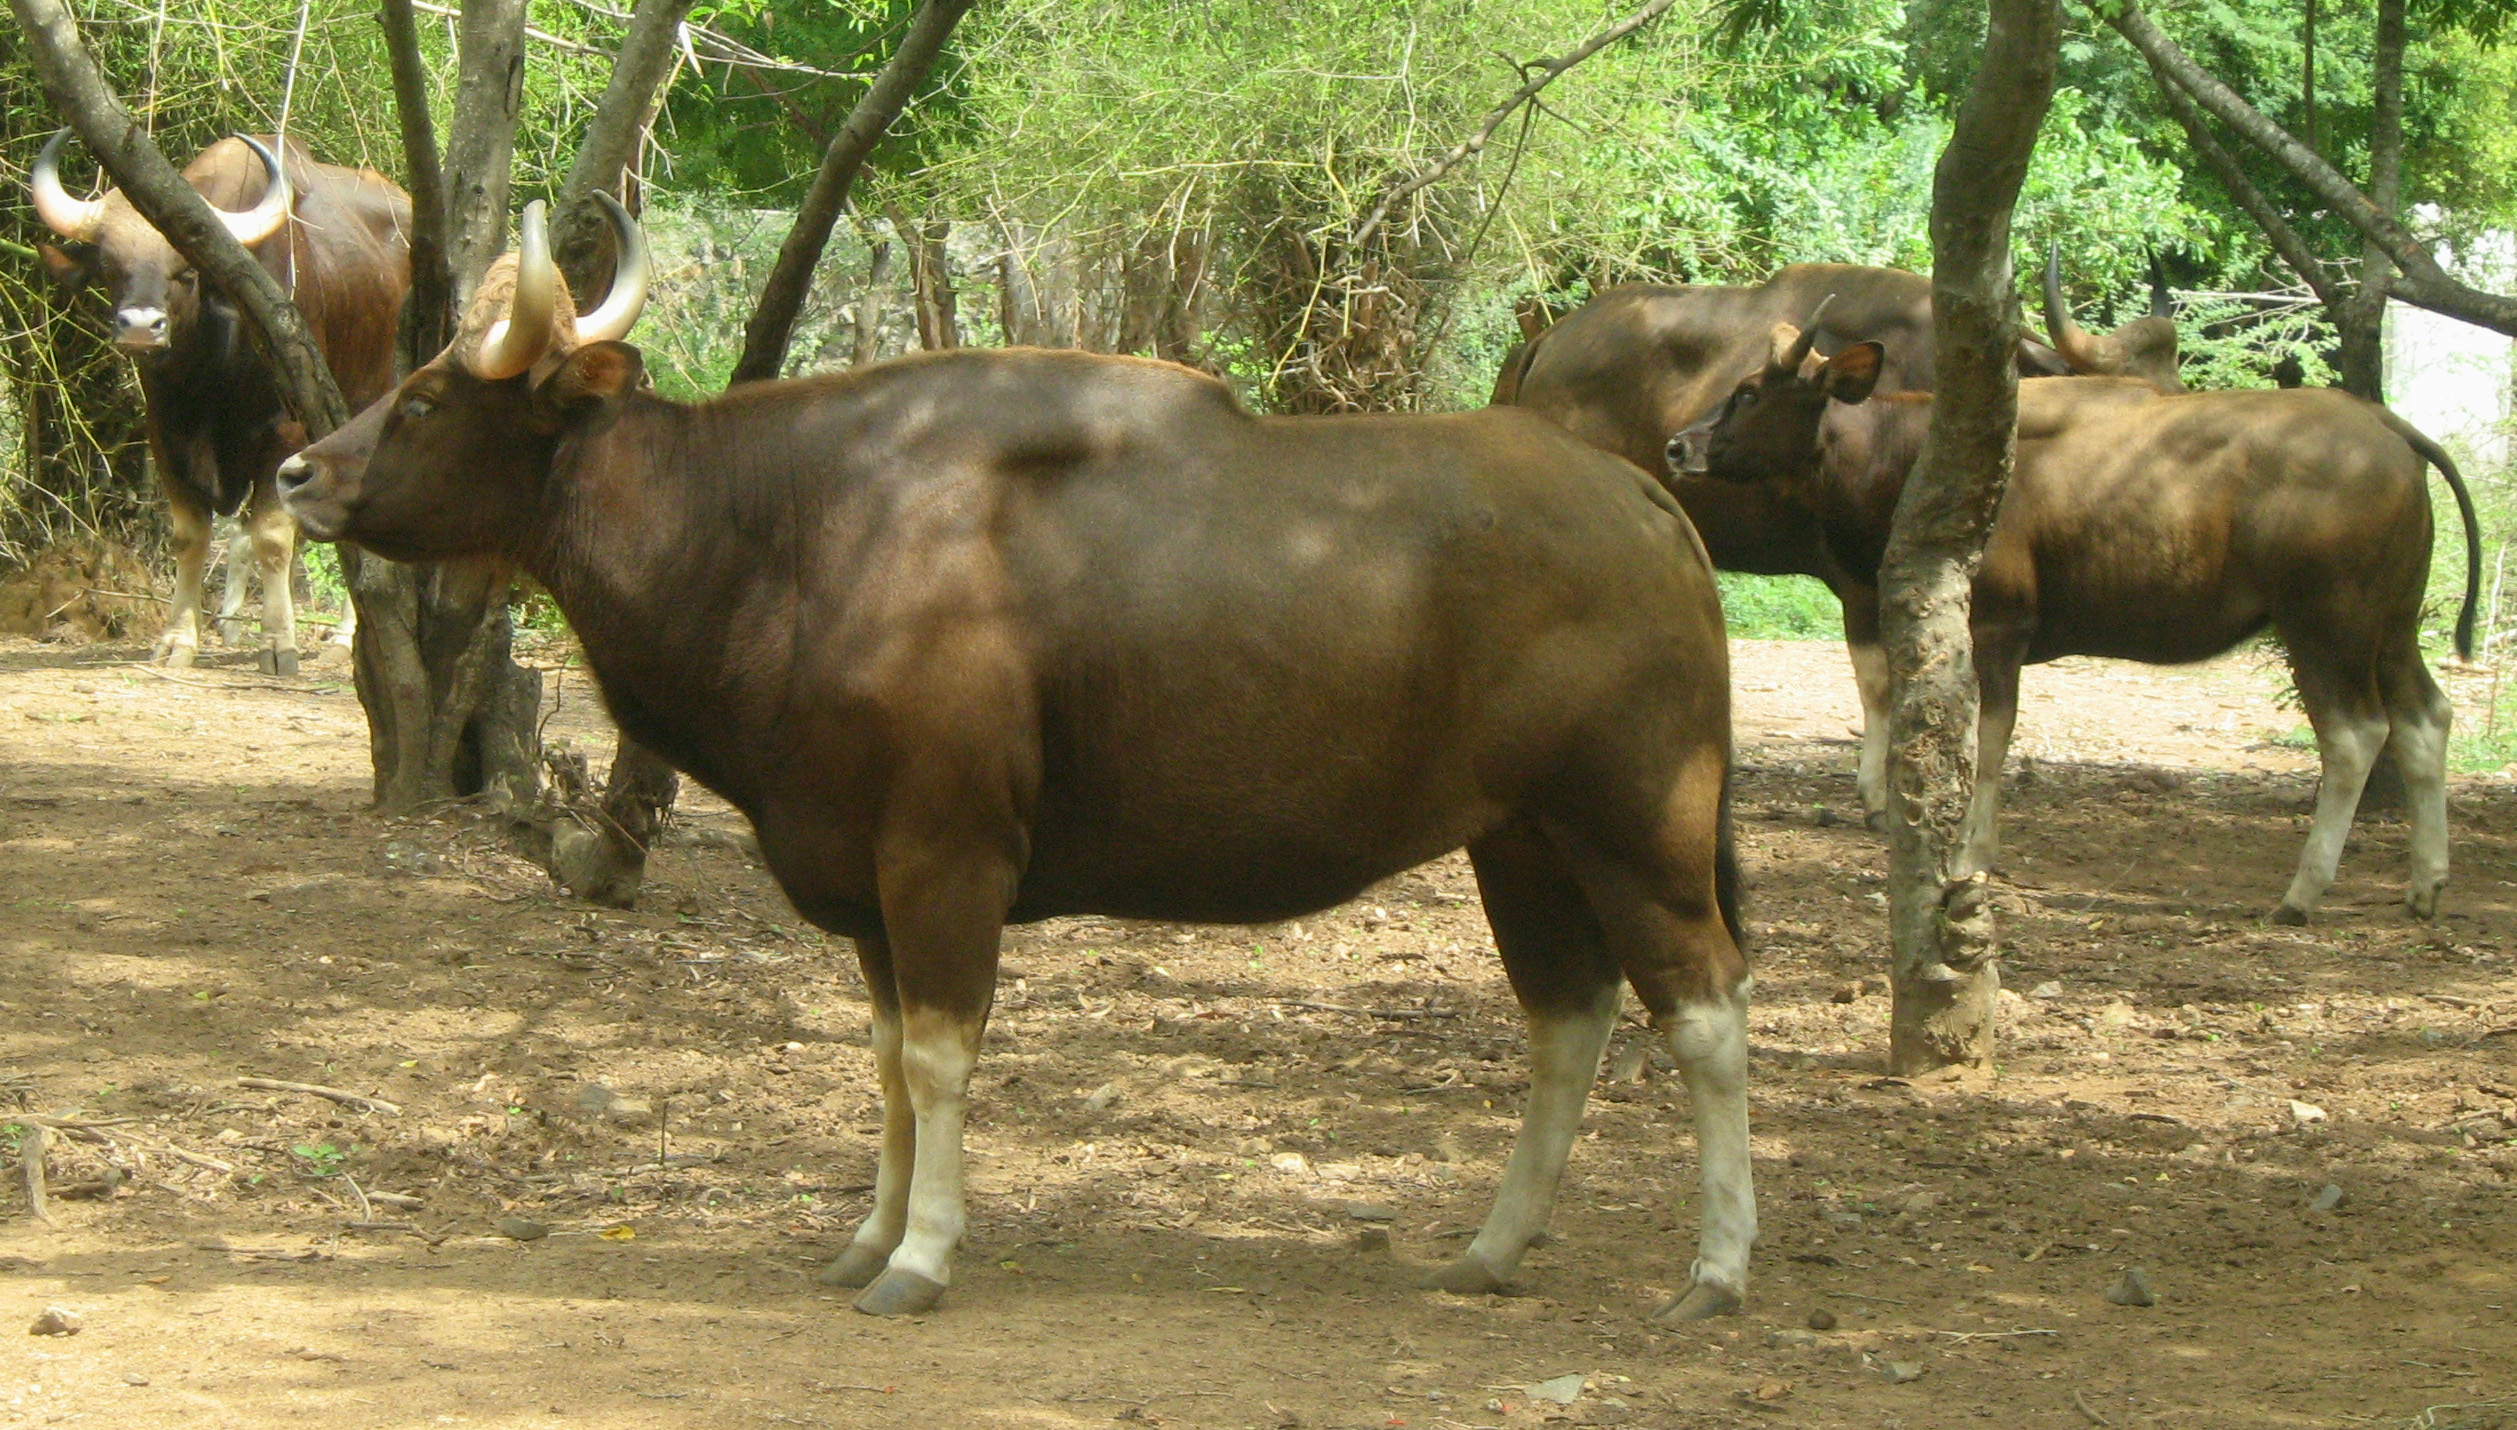bison: (263, 180, 1774, 1304), (1673, 299, 2477, 923), (1518, 259, 2187, 744), (38, 116, 422, 635)
